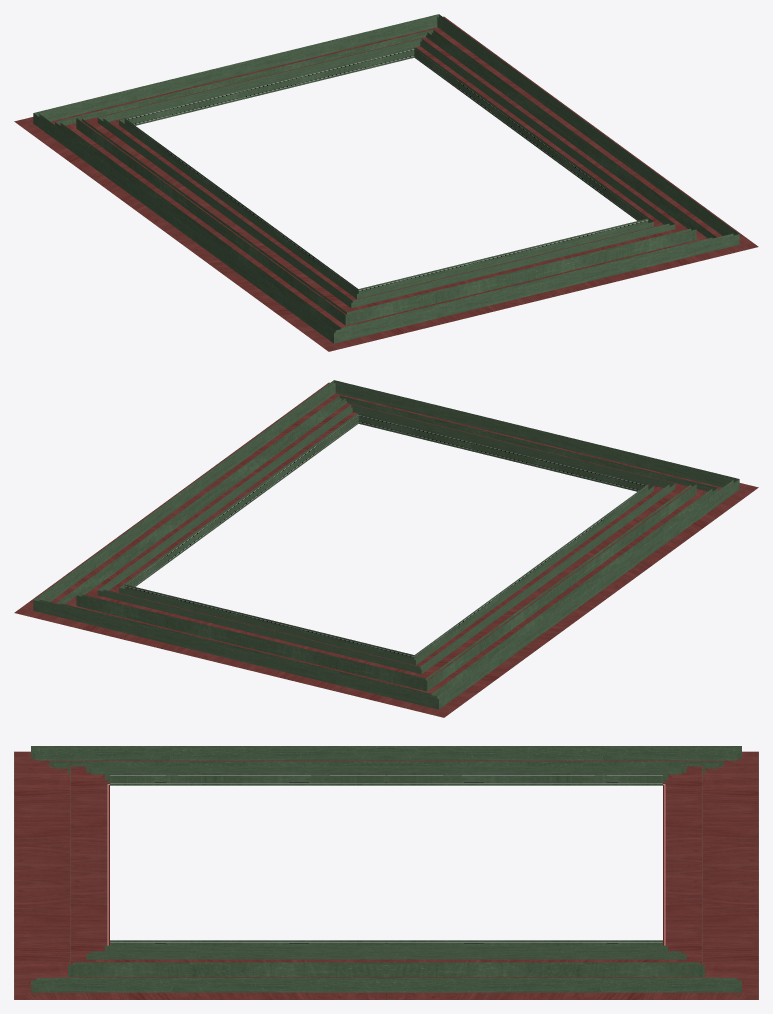
Rendered from SM_Roofplate01C.fbx.
3 renders of one model, top to bottom at view 1: azimuth 30°, elevation 25°; view 2: azimuth 150°, elevation 25°; view 3: azimuth 270°, elevation 25°, orthographic. The views are drawn at different scales.
Visible parts, largest first — view 1: SM_Roofplate01C; view 2: SM_Roofplate01C; view 3: SM_Roofplate01C.
Boxes of the visible parts, x1=… form: SM_Roofplate01C: x1=14, y1=14, x2=758, y2=351; SM_Roofplate01C: x1=14, y1=380, x2=758, y2=717; SM_Roofplate01C: x1=14, y1=746, x2=758, y2=999.
Size of the model in its own units: 1125 by 1426 by 66.88.
